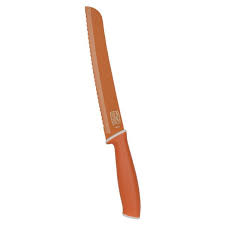breadknife: (83, 4, 146, 219)
